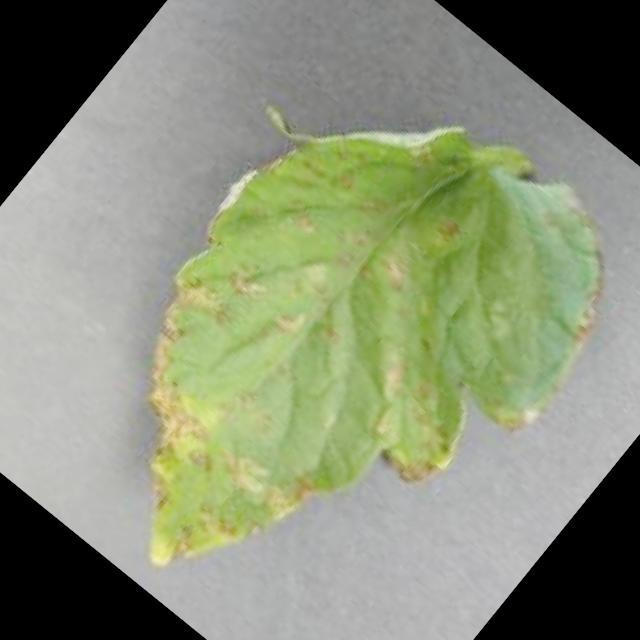Tomato bacterial spot leaf: (5, 10, 640, 640)
